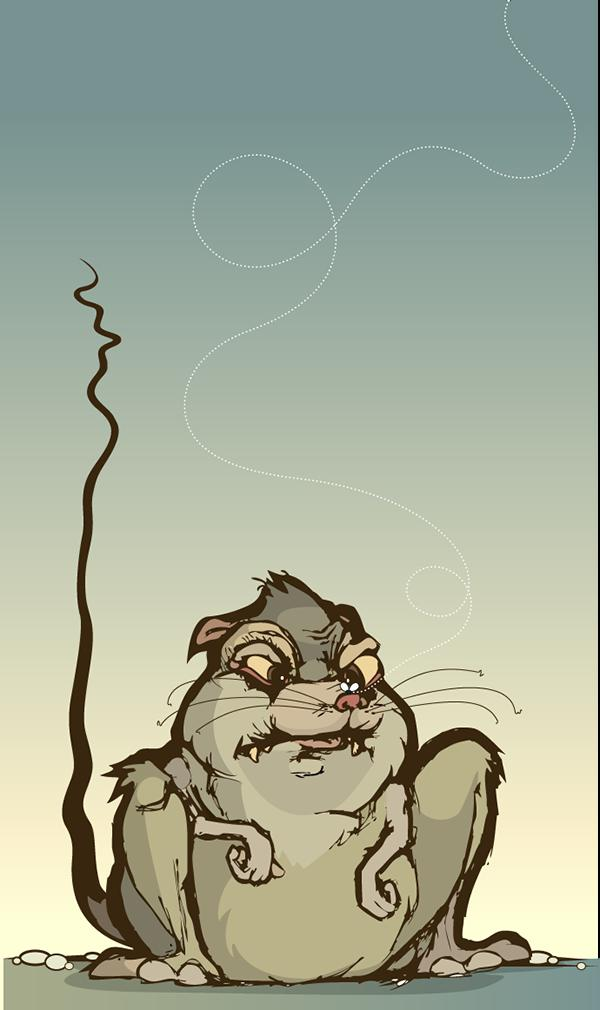cat: (128, 583, 586, 983)
